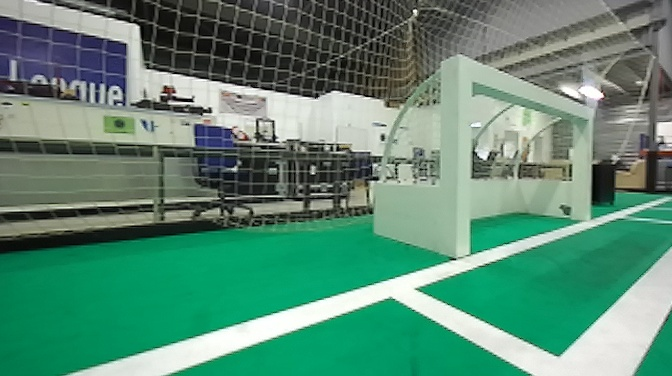goalpost: (440, 54, 471, 257), (564, 105, 598, 224)
